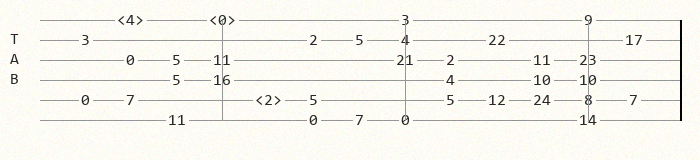0: (81, 93, 94, 107), (126, 53, 139, 67), (309, 113, 322, 127), (401, 113, 414, 127)
10: (533, 73, 555, 87), (579, 73, 601, 87)
11: (168, 113, 190, 127), (213, 53, 235, 67), (533, 53, 555, 67)
12: (488, 93, 510, 107)
14: (579, 113, 601, 127)
16: (213, 73, 235, 87)
17: (625, 33, 647, 47)
2: (309, 33, 322, 47), (446, 53, 459, 67)
21: (396, 53, 418, 67)
22: (488, 33, 510, 47)
23: (579, 53, 601, 67)
24: (533, 93, 555, 107)
3: (81, 33, 94, 47), (401, 13, 414, 27)
4: (401, 33, 414, 47), (446, 73, 459, 87)
5: (172, 73, 185, 87), (172, 53, 185, 67), (309, 93, 322, 107), (355, 33, 368, 47), (446, 93, 459, 107)
7: (126, 93, 139, 107), (355, 113, 368, 127), (629, 93, 642, 107)
8: (584, 93, 597, 107)
9: (584, 13, 597, 27)
harmonic: (117, 13, 148, 27), (209, 13, 240, 27), (255, 93, 286, 107)
